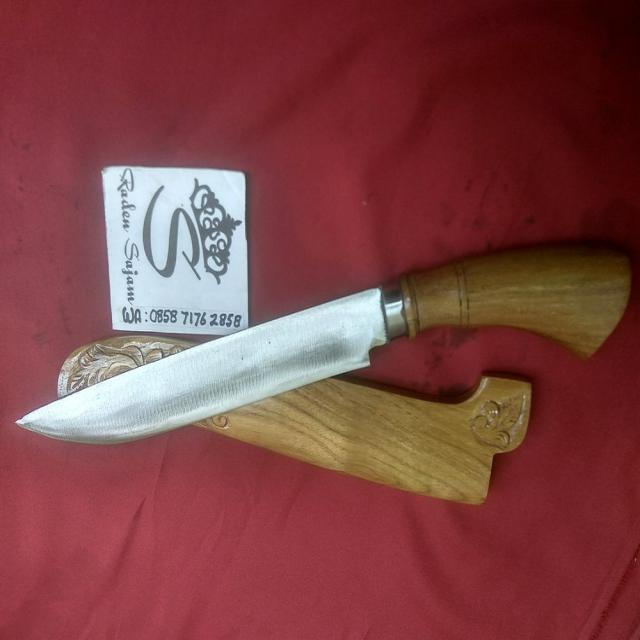Pisau: (13, 238, 619, 462)
